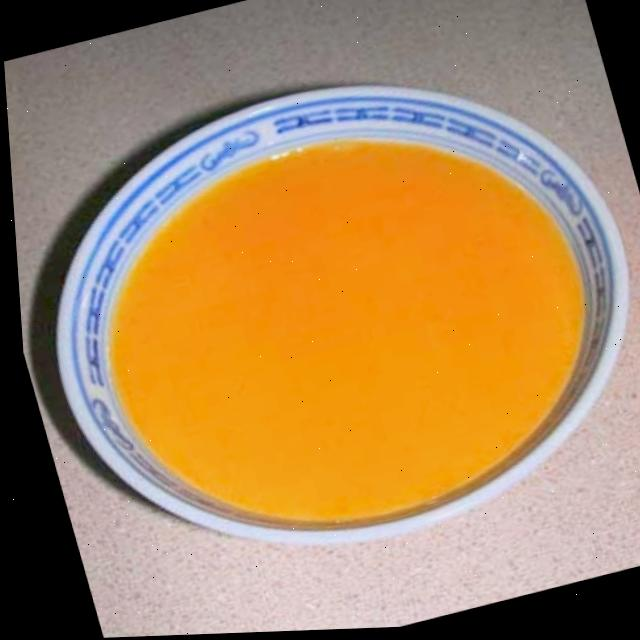蛋糕甜品: (0, 0, 640, 634)
